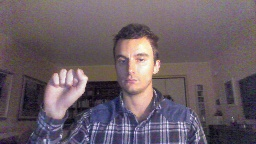Pugno: (41, 66, 89, 116)
